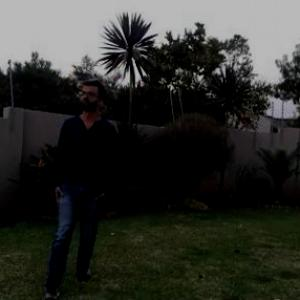follow: (41, 44, 121, 297)
